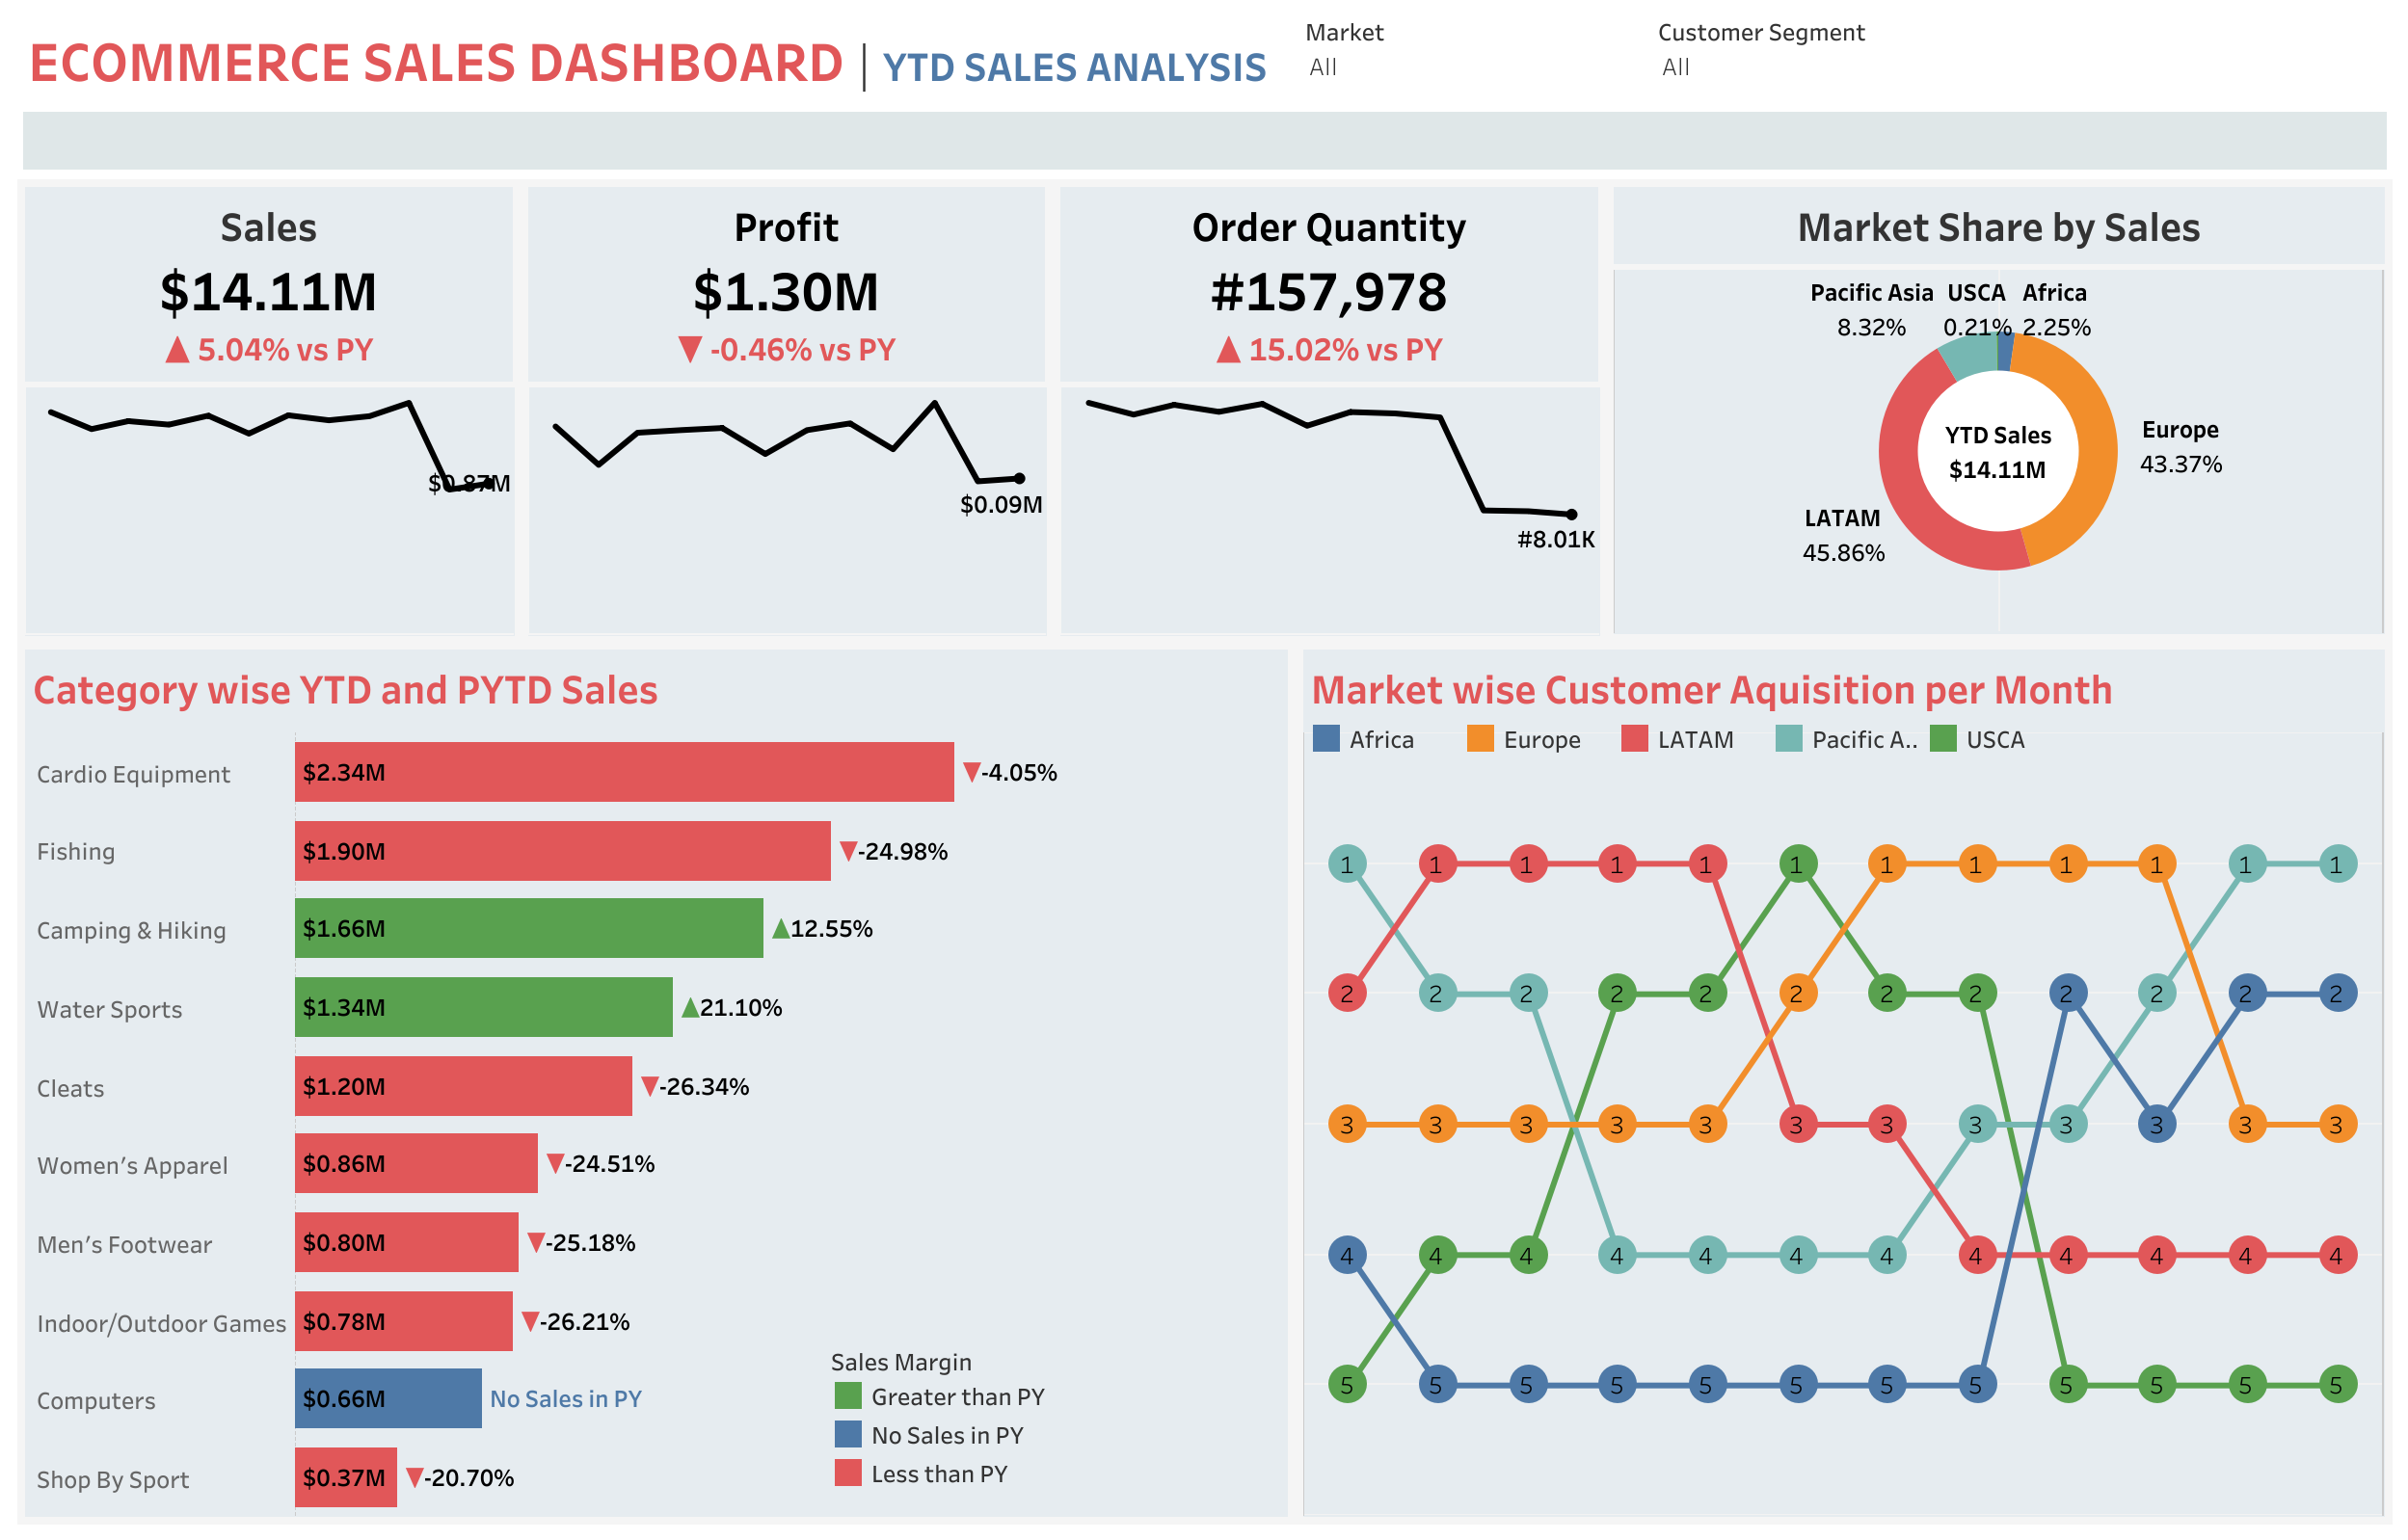

This screenshot's page, from the dashboard's own definition file:
{"tool":"tableau","page":{"name":"Dashboard 1","canvas":[1250,800],"ordinal":0},"visuals":[{"type":"filter","title":"Sales KPI","param":"[federated.11rwhhu0x0z9yh1cvfaj91iwt609].[none:Market:nk]","box":[677,6,168,59]},{"type":"filter","title":"Sales KPI","param":"[federated.11rwhhu0x0z9yh1cvfaj91iwt609].[none:Customer Segment:nk]","box":[860,6,168,52]},{"type":"title","box":[8,8,1234,45]},{"type":"blank","box":[8,53,1234,38]},{"type":"worksheet","title":"Sales KPI","mark":"Automatic","rows":["Sales"],"cols":["Order Date"],"box":[9,92,261,240]},{"type":"worksheet","title":"Profit KPI","mark":"Automatic","rows":["Profit Per Order"],"cols":["Order Date"],"box":[270,92,276,240]},{"type":"worksheet","title":"Order Quantity KPI","mark":"Automatic","rows":["Order Quantity"],"cols":["Order Date"],"box":[546,92,287,240]},{"type":"worksheet","title":"Market Share by Sales","mark":"Pie","cols":["Calculation_65794833624035338","Calculation_65794833624113164"],"box":[833,92,408,240]},{"type":"worksheet","title":"Category wise YTD vs PYTD sales","mark":"Bar","rows":["Category Name"],"cols":["Calculation_65794833625395213","Calculation_65794833625395213"],"box":[9,332,663.1,459]},{"type":"worksheet","title":"Market wise Customer Aquisition per Month","mark":"Automatic","cols":["Order Date"],"box":[672.1,332,568.9,459]},{"type":"legend","title":"Market Share by Sales","param":"[federated.11rwhhu0x0z9yh1cvfaj91iwt609].[none:Market:nk]","box":[678,373,557,46]},{"type":"legend","title":"Category wise YTD vs PYTD sales","param":"[federated.11rwhhu0x0z9yh1cvfaj91iwt609].[usr:Calculation_91479428168785922:nk]","box":[430,695,140,78]}]}

Visuals, with their boxes in screenshot pixels (x1, y1, x2, y2), scaled from the page's 1250x800 canvas onto the 2408x1540 screenshot:
"Sales KPI" filter: 1304, 12, 1628, 125
"Sales KPI" filter: 1657, 12, 1980, 112
title: 15, 15, 2393, 102
blank: 15, 102, 2393, 175
"Sales KPI" worksheet: 17, 177, 521, 639
"Profit KPI" worksheet: 521, 177, 1052, 639
"Order Quantity KPI" worksheet: 1052, 177, 1605, 639
"Market Share by Sales" worksheet (Pie marks): 1605, 177, 2391, 639
"Category wise YTD vs PYTD sales" worksheet (Bar marks): 17, 639, 1295, 1523
"Market wise Customer Aquisition per Month" worksheet: 1295, 639, 2391, 1523
"Market Share by Sales" legend: 1306, 718, 2379, 807
"Category wise YTD vs PYTD sales" legend: 828, 1338, 1098, 1488
